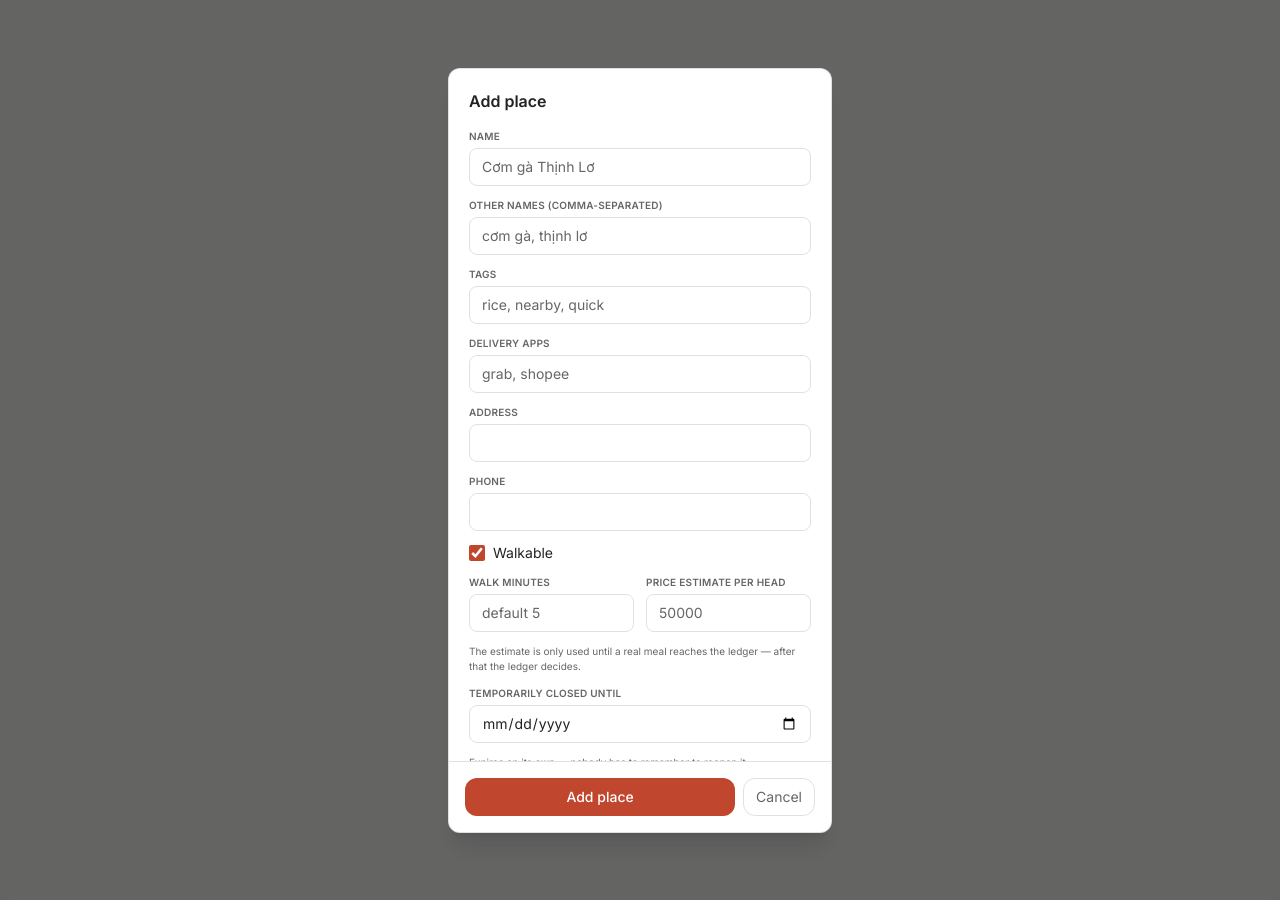
PlaceDialog › surfaces the server's own collision message, not a generic conflict line
This screenshot has width=1280, height=900.
Type "quán bé bự" into the field labelled "Name".
click(640, 166); type("quán bé bự")  # box [469,148,811,186]
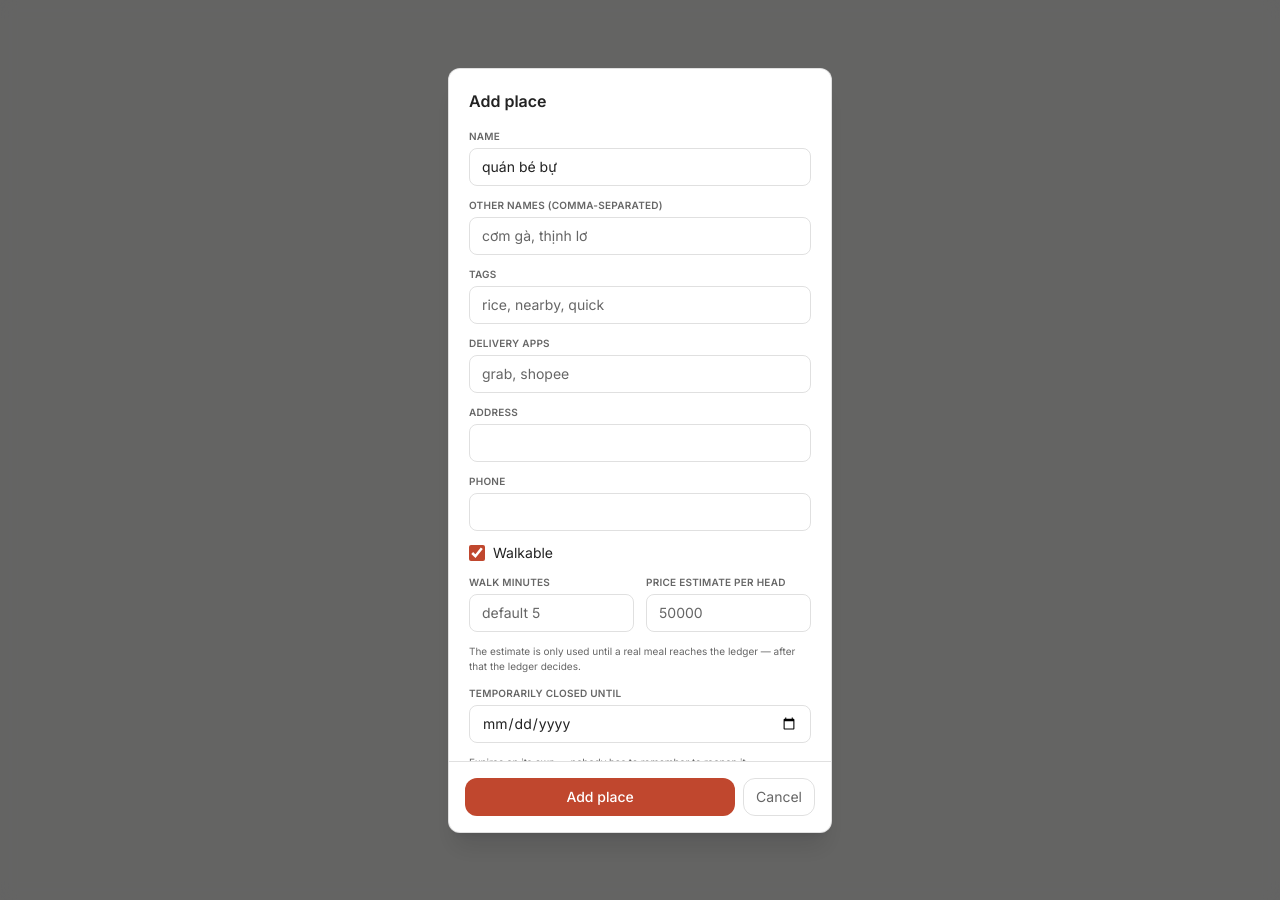
Click the button "Add place".
click(600, 796)  # box [465,778,735,816]
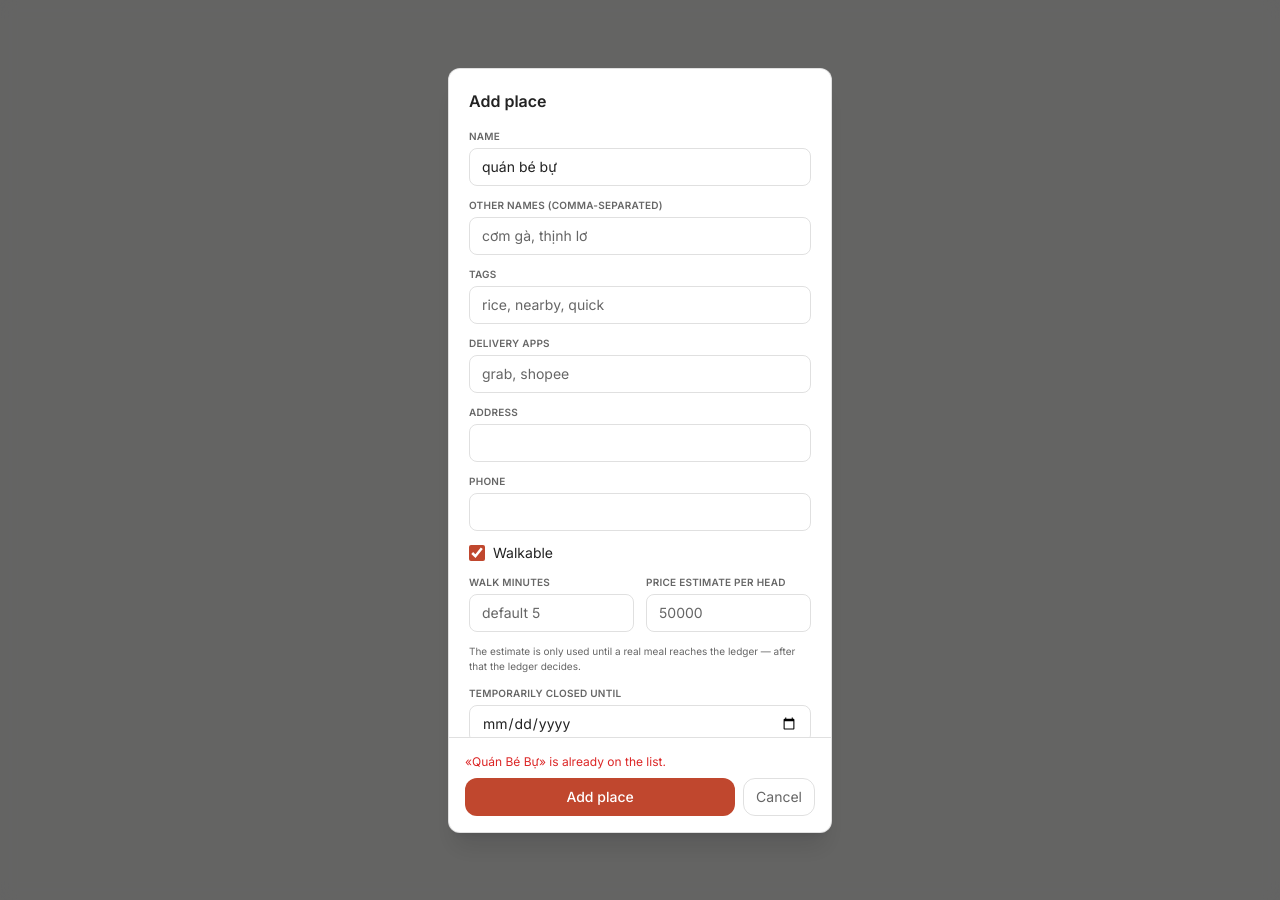
Check: the text "«Quán Bé Bự» is already on the list." is shown, box [465,754,666,768]
